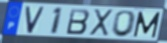1: (51, 7, 63, 36)
B: (65, 8, 91, 35)
M: (132, 10, 162, 39)
O: (110, 10, 138, 39)
V: (25, 6, 47, 35)
X: (89, 9, 114, 37)
